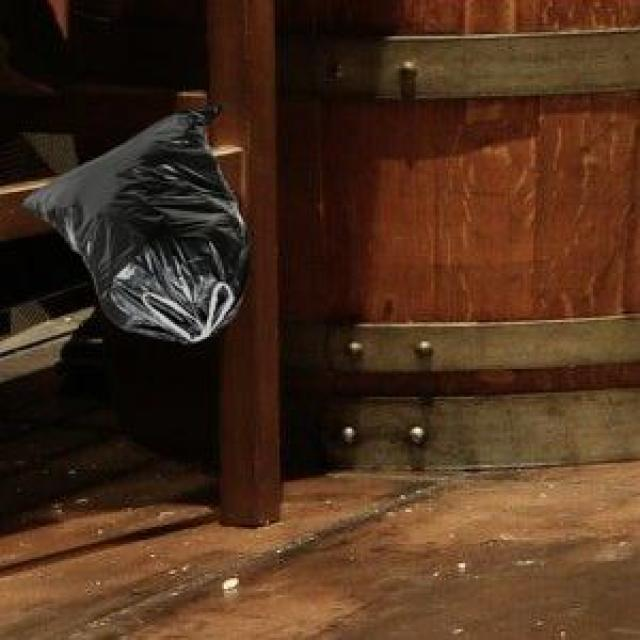miscellaneous trash: (17, 100, 245, 341)
